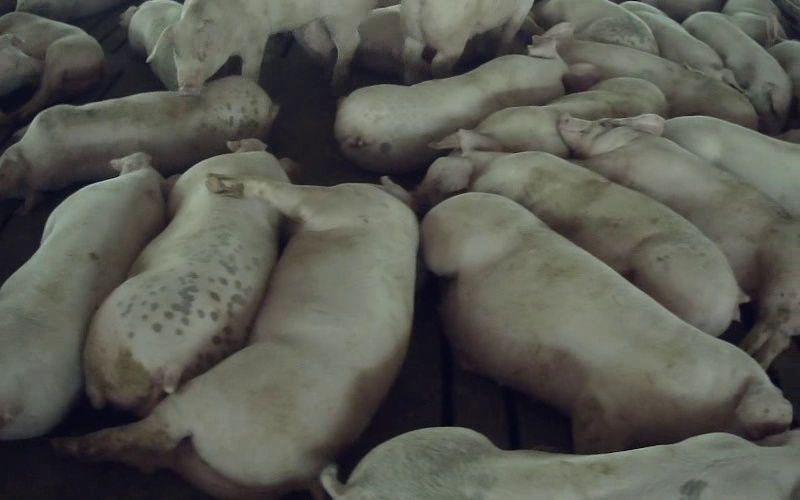pig: (61, 176, 418, 496), (421, 193, 789, 451), (416, 131, 742, 334), (561, 115, 799, 367), (84, 139, 298, 413), (0, 153, 166, 439), (0, 76, 277, 210), (335, 39, 600, 173), (321, 428, 799, 499), (544, 23, 757, 128), (148, 0, 371, 88), (475, 77, 667, 157), (663, 116, 799, 218), (683, 12, 791, 134), (403, 0, 532, 83), (621, 0, 739, 89), (532, 0, 658, 54)
